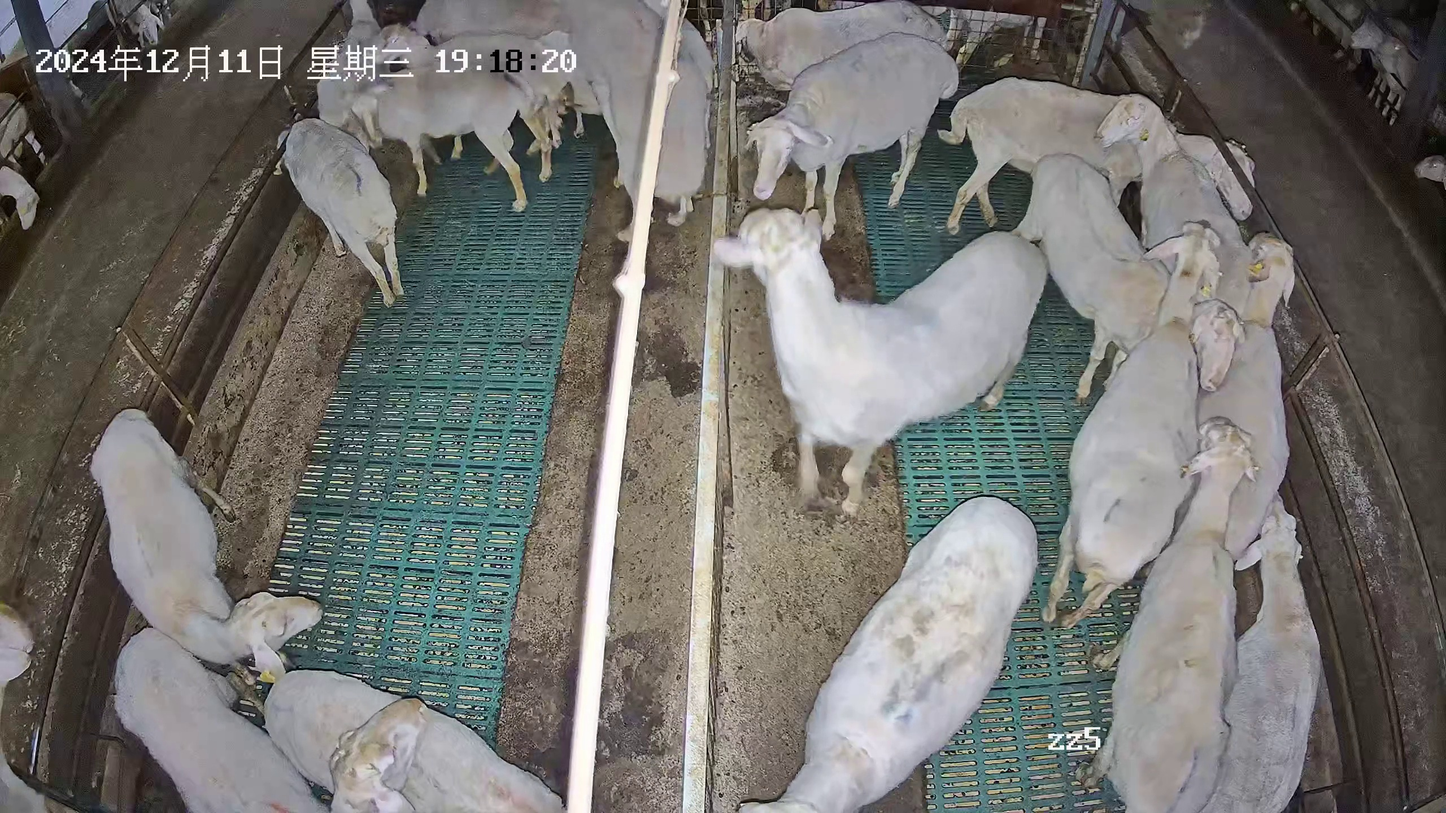Smounting: (520, 1, 709, 244)
mounted: (522, 29, 619, 151)
